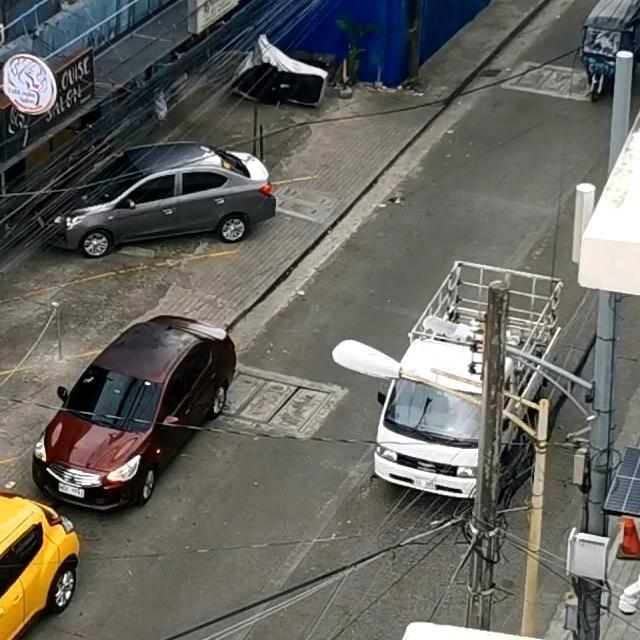Truck: (364, 249, 574, 515)
